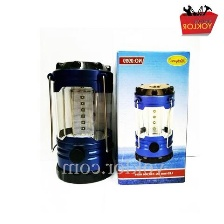book: (111, 43, 195, 192)
